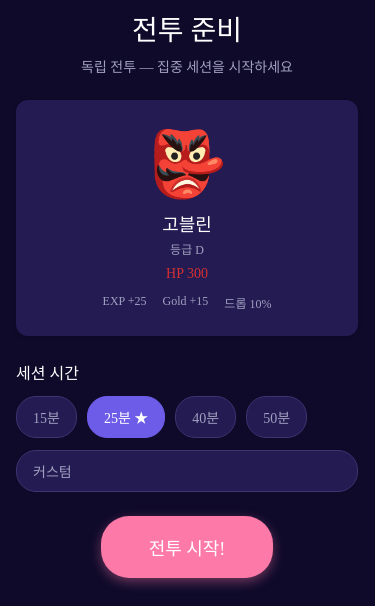
Test: BattleScreen › SETUP phase › tapping time button updates monster selection
Expected: the text "고블린" is shown, [162,210,212,236]
Expected: the text "등급 D" is shown, [170,240,204,258]
Click the text "50분" at (277,417), box [263,407,290,427]
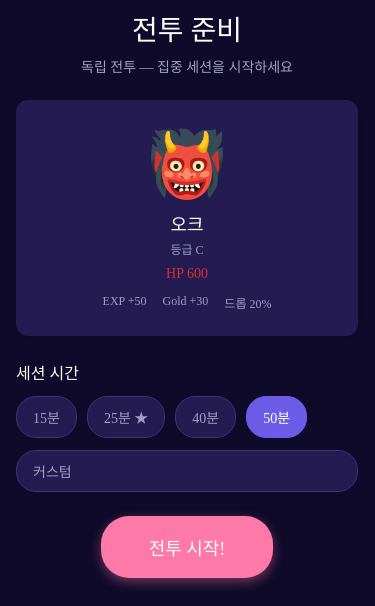
Expected: the text "오크" is shown, [170,210,204,236]
Expected: the text "등급 C" is shown, [170,240,204,258]
